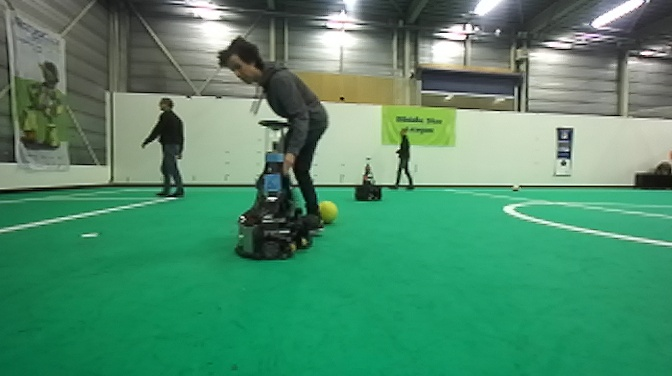ball: (318, 198, 340, 226), (509, 181, 523, 194)
human: (216, 34, 334, 227), (139, 96, 187, 199), (390, 126, 418, 192)
robot: (233, 119, 318, 262), (353, 154, 385, 204)
